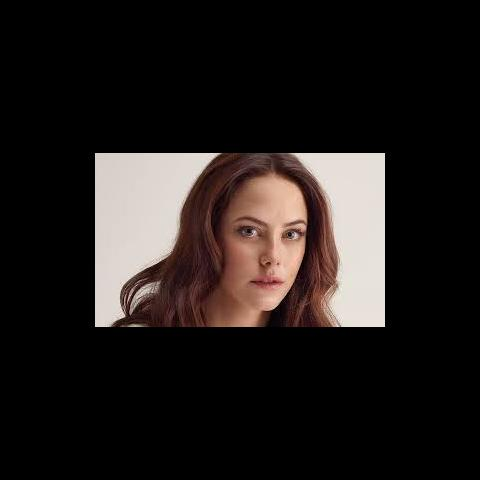opened: (232, 212, 307, 250)
